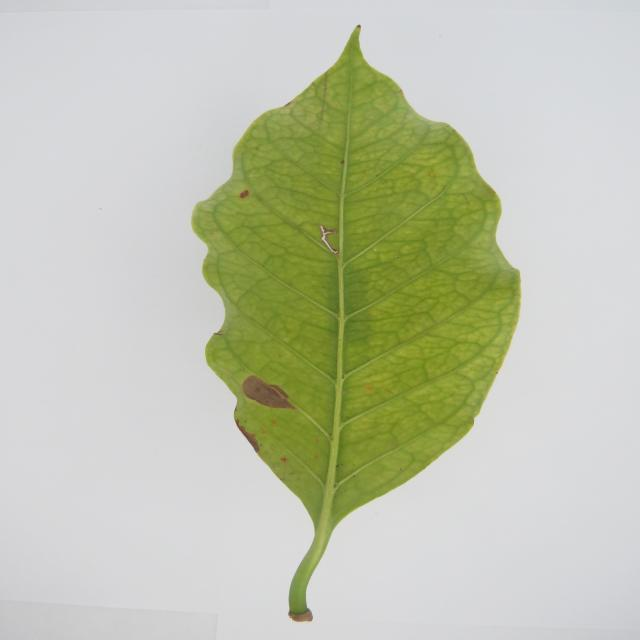DeficienciaNutricional-Calcio: (192, 26, 520, 621)
